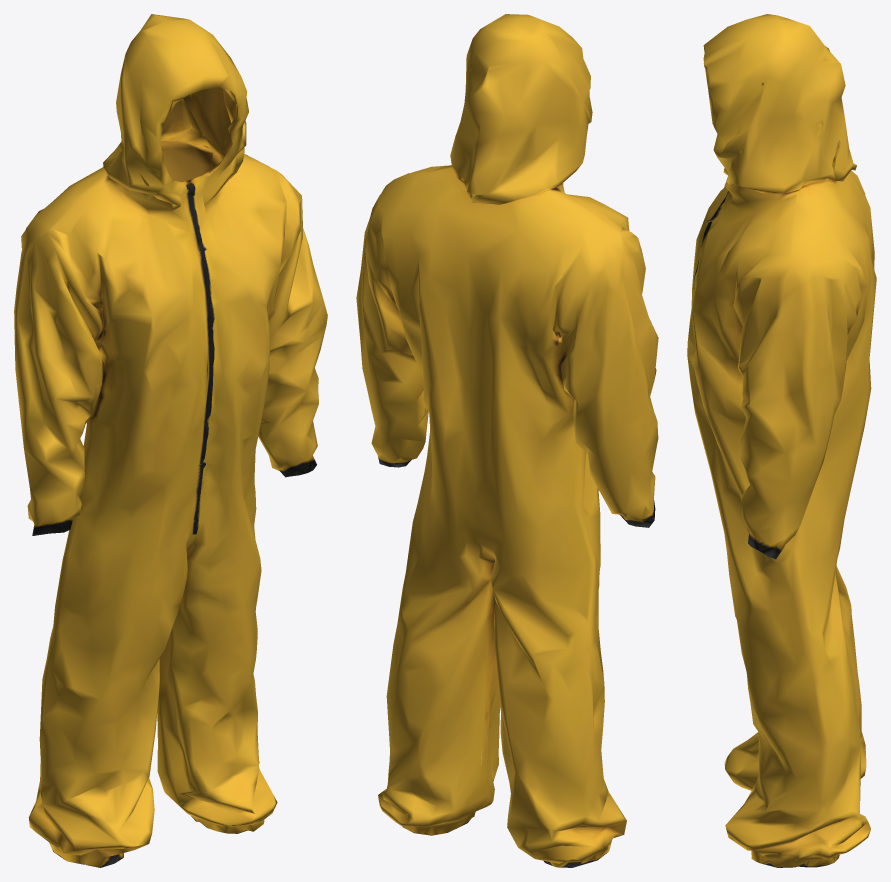
File: HazmatSuit_Fitted_To_Player.fbx
The picture shows the model from 3 angles, left to right: view 1: azimuth 30°, elevation 25°; view 2: azimuth 150°, elevation 25°; view 3: azimuth 270°, elevation 25°; orthographic projection.
Visible parts, largest first — view 1: tripo_node_54279ae7; view 2: tripo_node_54279ae7; view 3: tripo_node_54279ae7.
Boxes of the visible parts, x1,y1,x2,y2 form: tripo_node_54279ae7: (14, 14, 327, 867); tripo_node_54279ae7: (356, 14, 658, 867); tripo_node_54279ae7: (687, 14, 876, 867).
Size of the model in its own units: 0.3788 by 1.03 by 0.2202.
